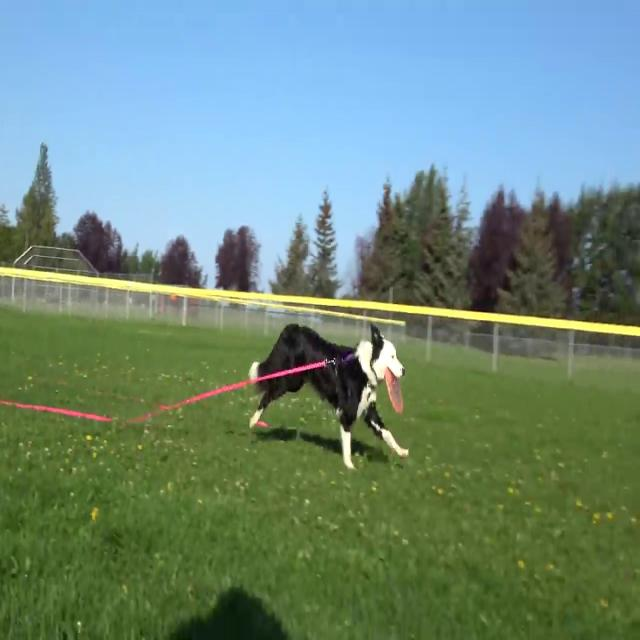Dog: (248, 323, 409, 469)
